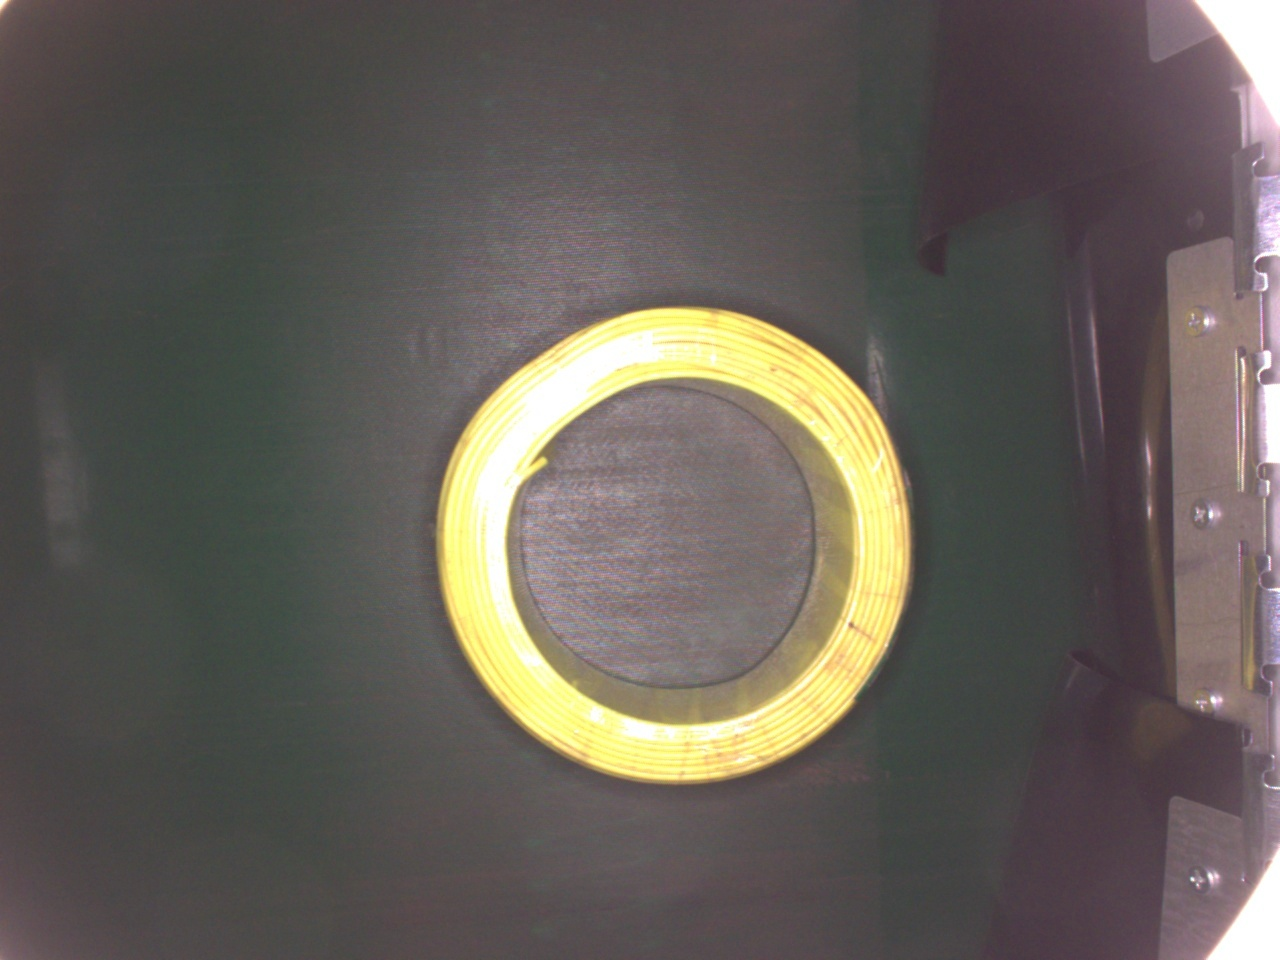yellow: (432, 299, 923, 790)
